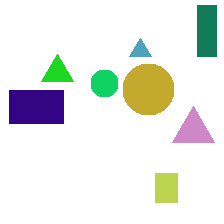circle: (123, 64, 173, 114), (91, 70, 117, 96)
rectangle: (9, 90, 63, 123), (197, 5, 216, 56), (155, 173, 177, 202)
triangle: (172, 106, 214, 142), (41, 54, 73, 81), (129, 38, 151, 56)
